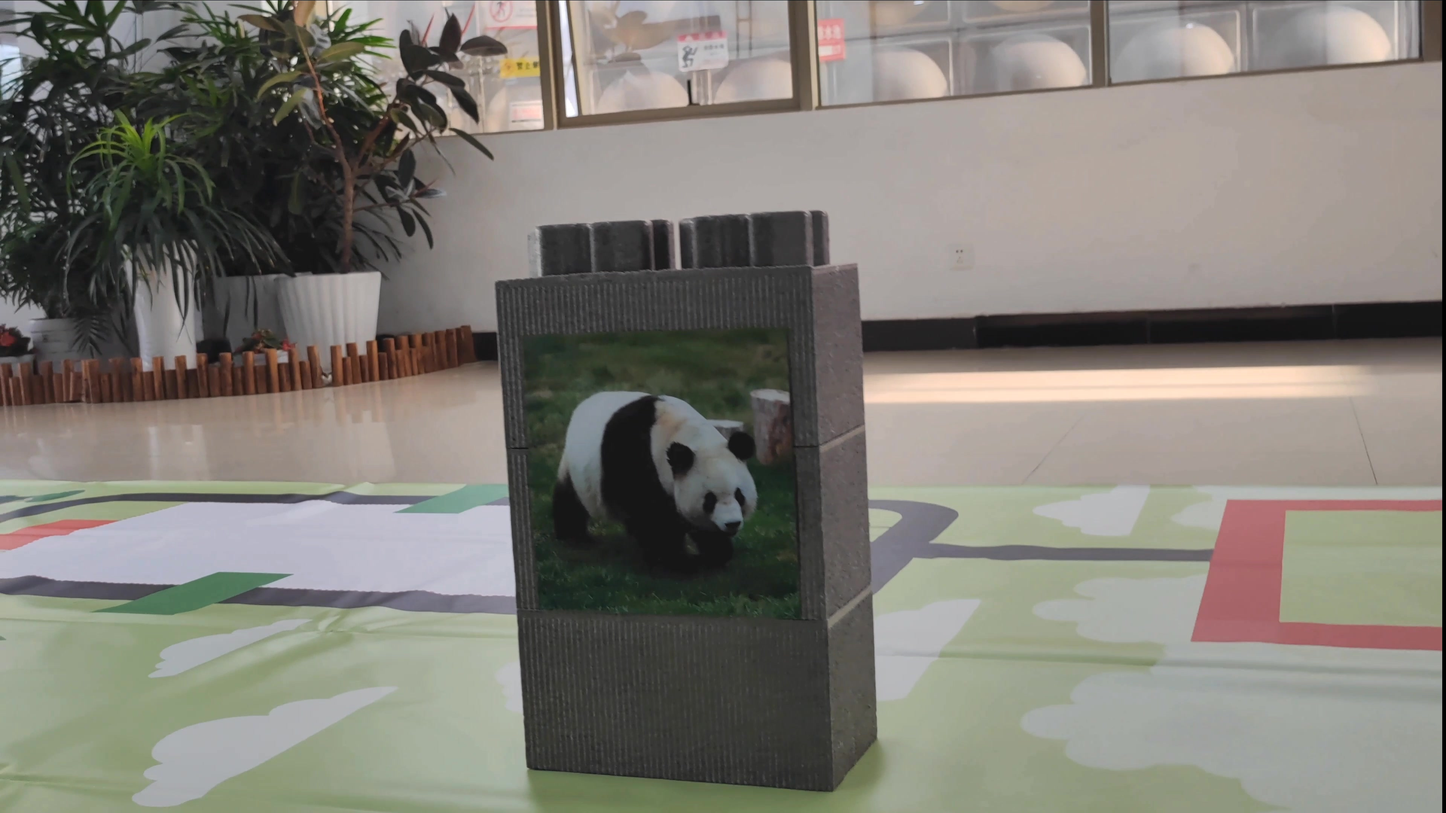panda: (530, 355, 782, 600)
